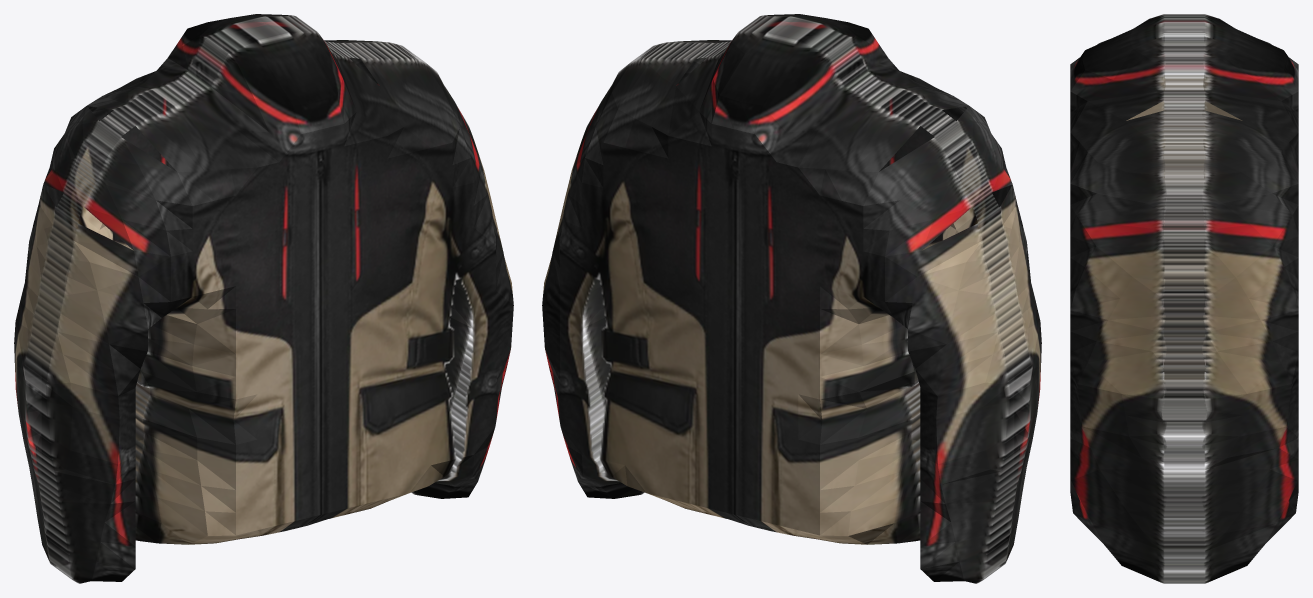
Rendered from shoei-vantage-leather-jacket-004.glb.
3 views of the same model, side by side, from view 1: azimuth 30°, elevation 25°; view 2: azimuth 150°, elevation 25°; view 3: azimuth 270°, elevation 25° (orthographic). The views are drawn at different scales.
Visible parts, largest first — view 1: world; view 2: world; view 3: world.
Part boxes in pixels (bbox=[...]): world: bbox=[14, 14, 513, 583]; world: bbox=[542, 14, 1041, 583]; world: bbox=[1070, 14, 1298, 583].
Size of the model in its own units: 0.9547 by 1 by 0.44.
1 material, 1 textured.
